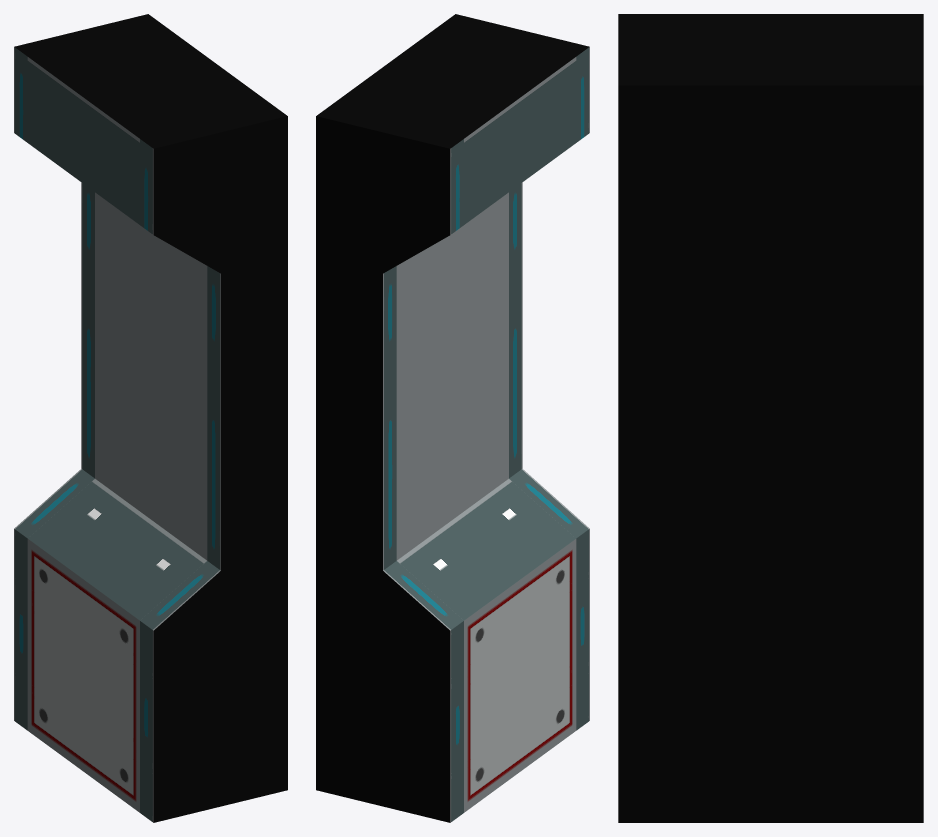
Rendered from SmallWallHalf_01.fbx.
3 views of the same model, side by side, from view 1: azimuth 30°, elevation 25°; view 2: azimuth 150°, elevation 25°; view 3: azimuth 270°, elevation 25° (orthographic). The views are drawn at different scales.
Parts seen in each view (by area): view 1: Cube.023; view 2: Cube.023; view 3: Cube.023.
Boxes of the visible parts, left/top/right/bottom form: Cube.023: left=14, top=14, right=287, bottom=822; Cube.023: left=316, top=14, right=589, bottom=822; Cube.023: left=618, top=14, right=923, bottom=822.
Bounding box in the file's own units: 83.32 × 150 × 400.
